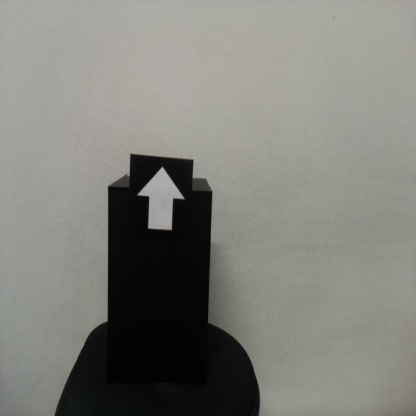id_1: (132, 158, 193, 250)
